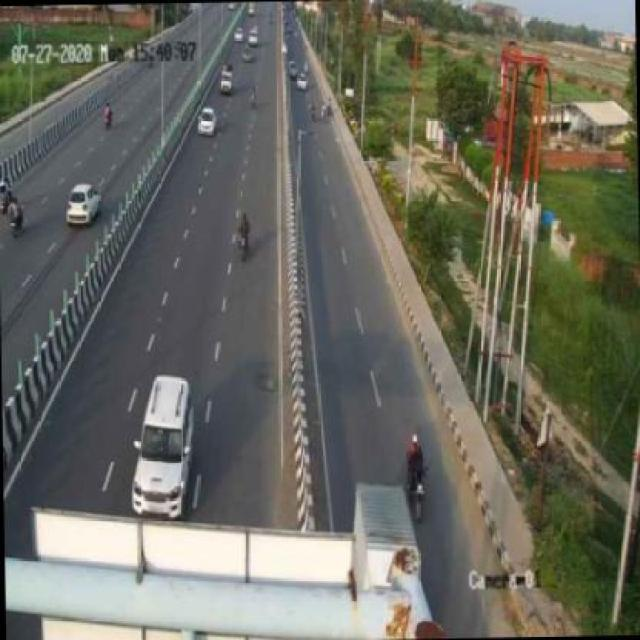car: (126, 366, 202, 520), (66, 183, 100, 228), (216, 61, 238, 97), (194, 108, 217, 137)
